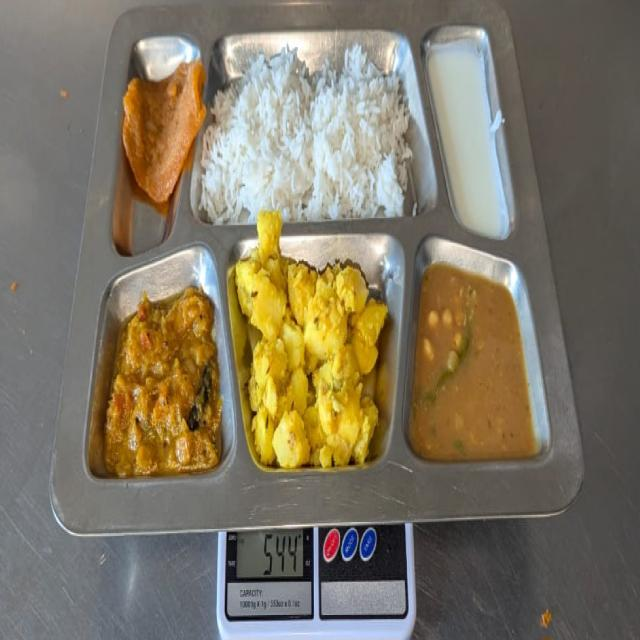Aloo Sabji: (231, 217, 388, 468)
Curd: (426, 40, 518, 236)
Dal: (411, 256, 536, 466)
Malpua: (120, 57, 203, 203)
Pumpkin Sabji: (105, 273, 225, 477)
White Rice: (204, 52, 418, 219)
